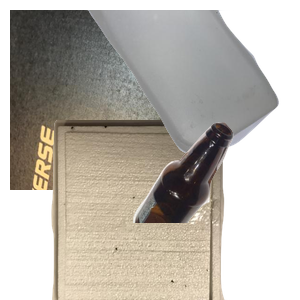cardboard: (10, 10, 217, 190)
glass: (130, 120, 300, 300)
plastic: (84, 10, 300, 157)
trash: (49, 120, 269, 300)
